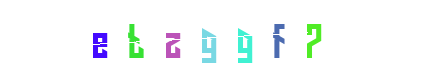7: (238, 0, 318, 80)
E: (59, 0, 139, 80)
F: (204, 0, 284, 80)
G: (178, 0, 258, 80), (189, 0, 269, 80)
T: (132, 0, 212, 80)
Z: (168, 0, 248, 80)
